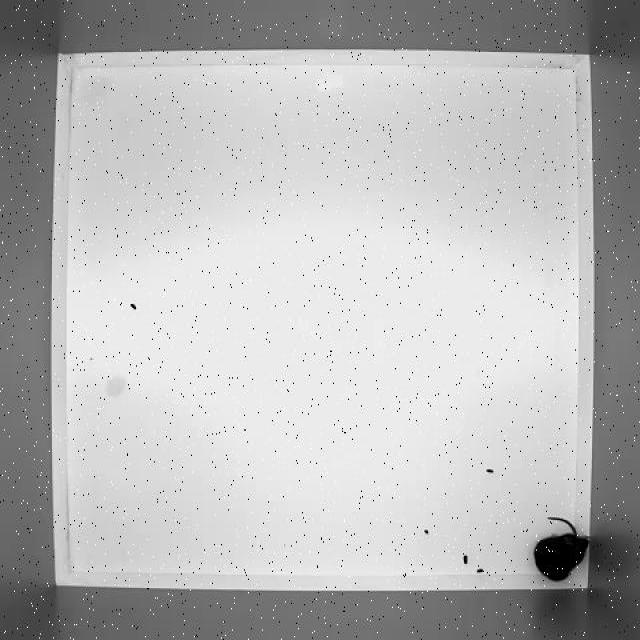rat: (534, 514, 590, 582)
